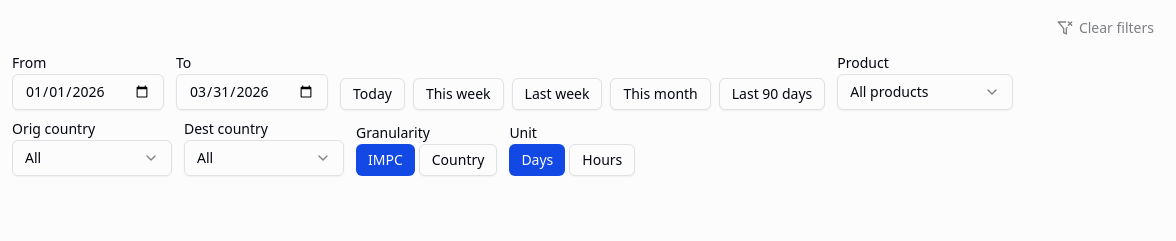
Test case: EventGapsFilters › shows (no product) when hasNoProduct is true
Click the dropdown labelled "All products" at (925, 92), box [837, 74, 1013, 110]
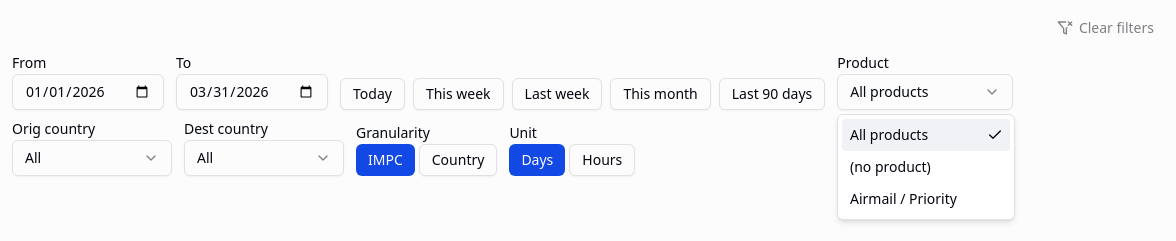
expect the text "(no product)" is shown: met, box [850, 157, 931, 177]
